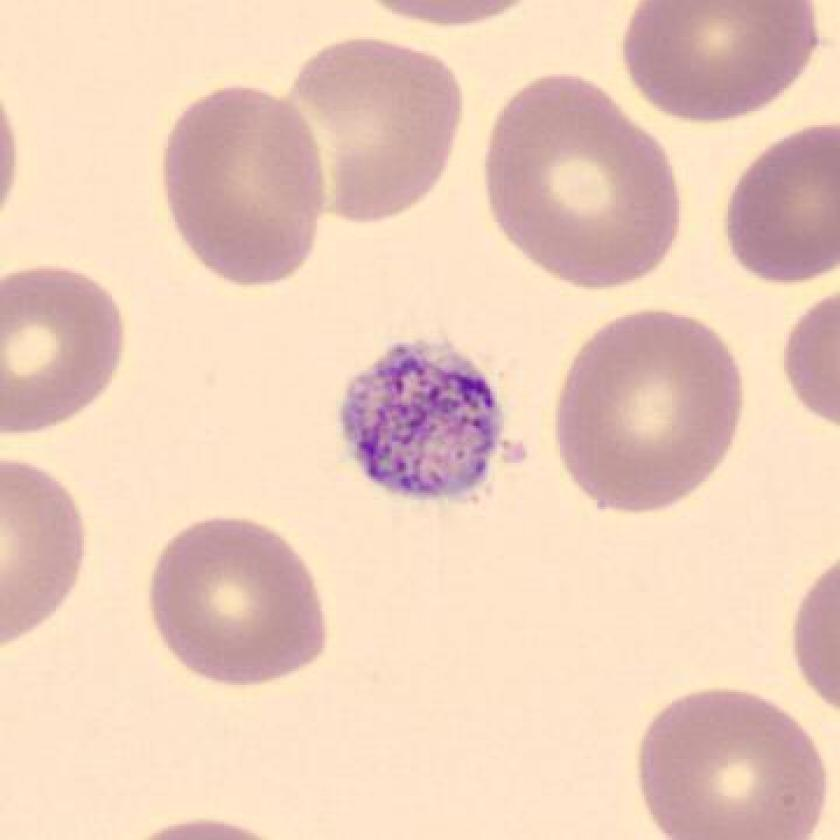platelets: (332, 332, 519, 512)
